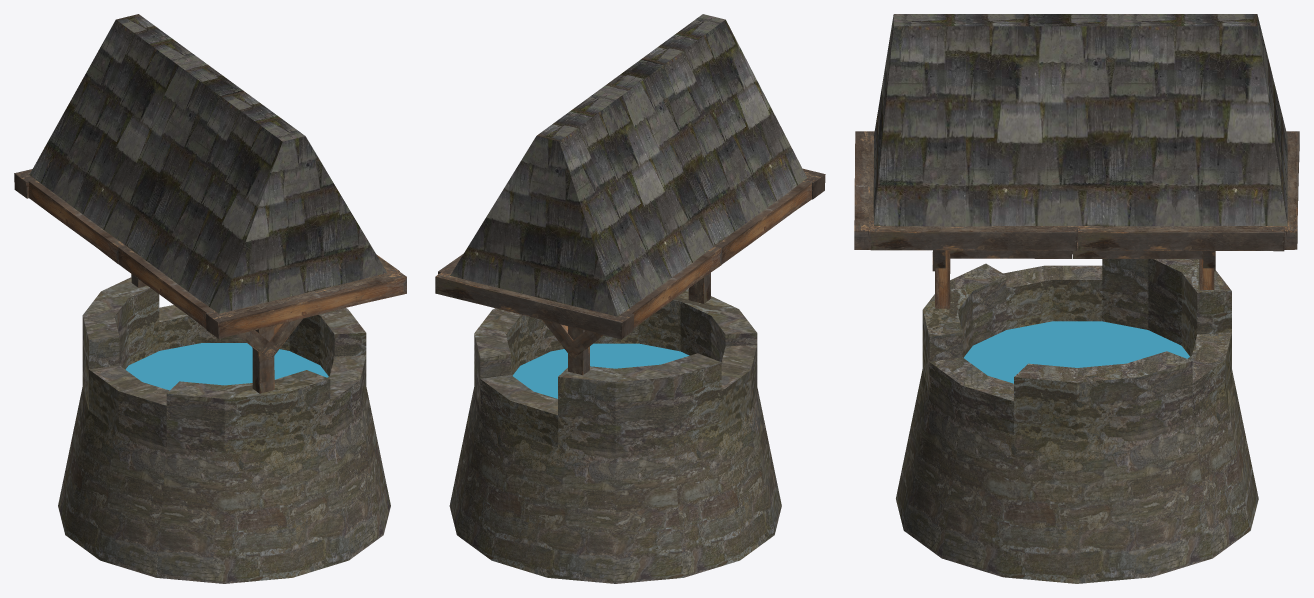
Rendered from OU_AR_Well_01_D.fbx.
3 renders of one model, left to right at view 1: azimuth 30°, elevation 25°; view 2: azimuth 150°, elevation 25°; view 3: azimuth 270°, elevation 25°, orthographic. The views are drawn at different scales.
Parts seen in each view (by area): view 1: OU_AR_Well_01_D; view 2: OU_AR_Well_01_D; view 3: OU_AR_Well_01_D.
Part boxes in pixels (bbox=[...]): OU_AR_Well_01_D: bbox=[14, 14, 406, 583]; OU_AR_Well_01_D: bbox=[435, 14, 825, 583]; OU_AR_Well_01_D: bbox=[854, 14, 1299, 583].
Size of the model in its own units: 268 by 392 by 330.
4 materials, 3 textured.
